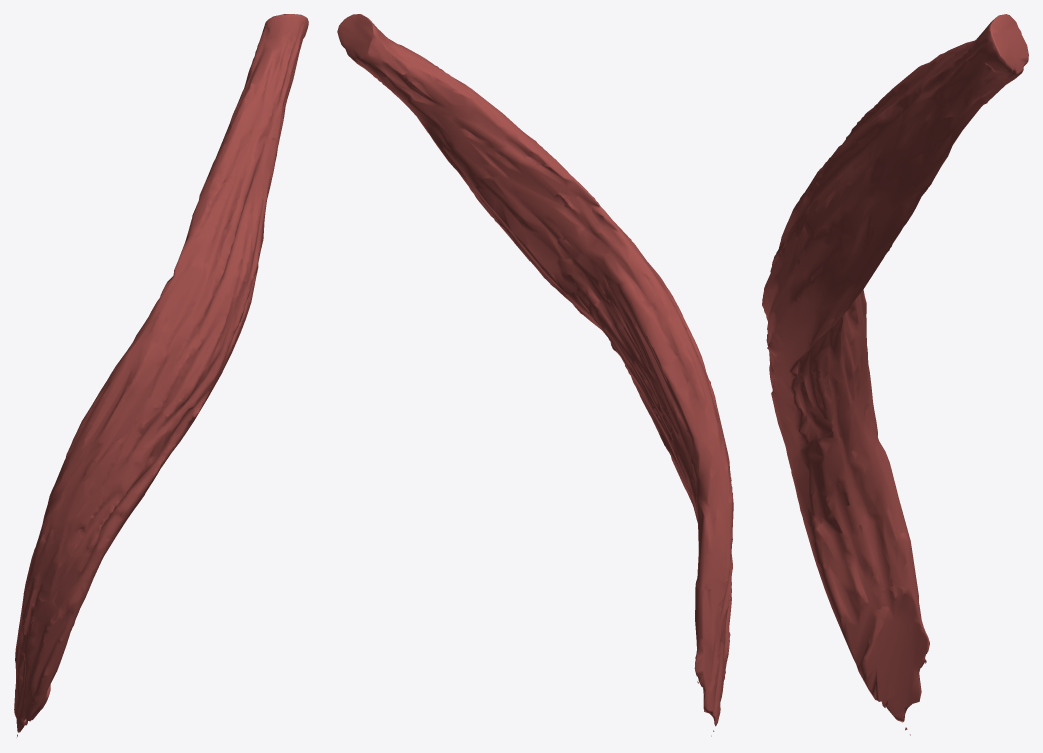
File: FMA38562.glb
The picture shows the model from 3 angles, left to right: view 1: azimuth 30°, elevation 25°; view 2: azimuth 150°, elevation 25°; view 3: azimuth 270°, elevation 25°; orthographic projection. The views are drawn at different scales.
Visible parts, largest first — view 1: FMA38562; view 2: FMA38562; view 3: FMA38562.
Part boxes in pixels (<box>): FMA38562: <box>14,14,308,736</box>; FMA38562: <box>337,14,733,736</box>; FMA38562: <box>762,14,1028,735</box>.
Bounding box in the file's own units: 0.0521 × 0.0957 × 0.0247.
